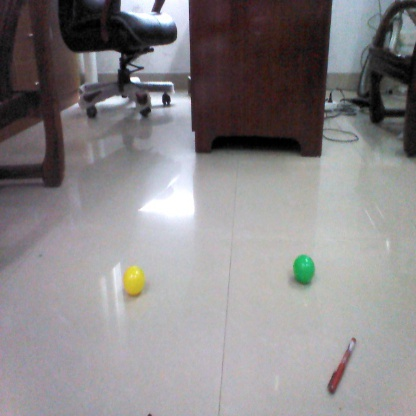ball: (121, 262, 146, 296), (293, 254, 314, 284)
pen: (324, 339, 360, 393)
